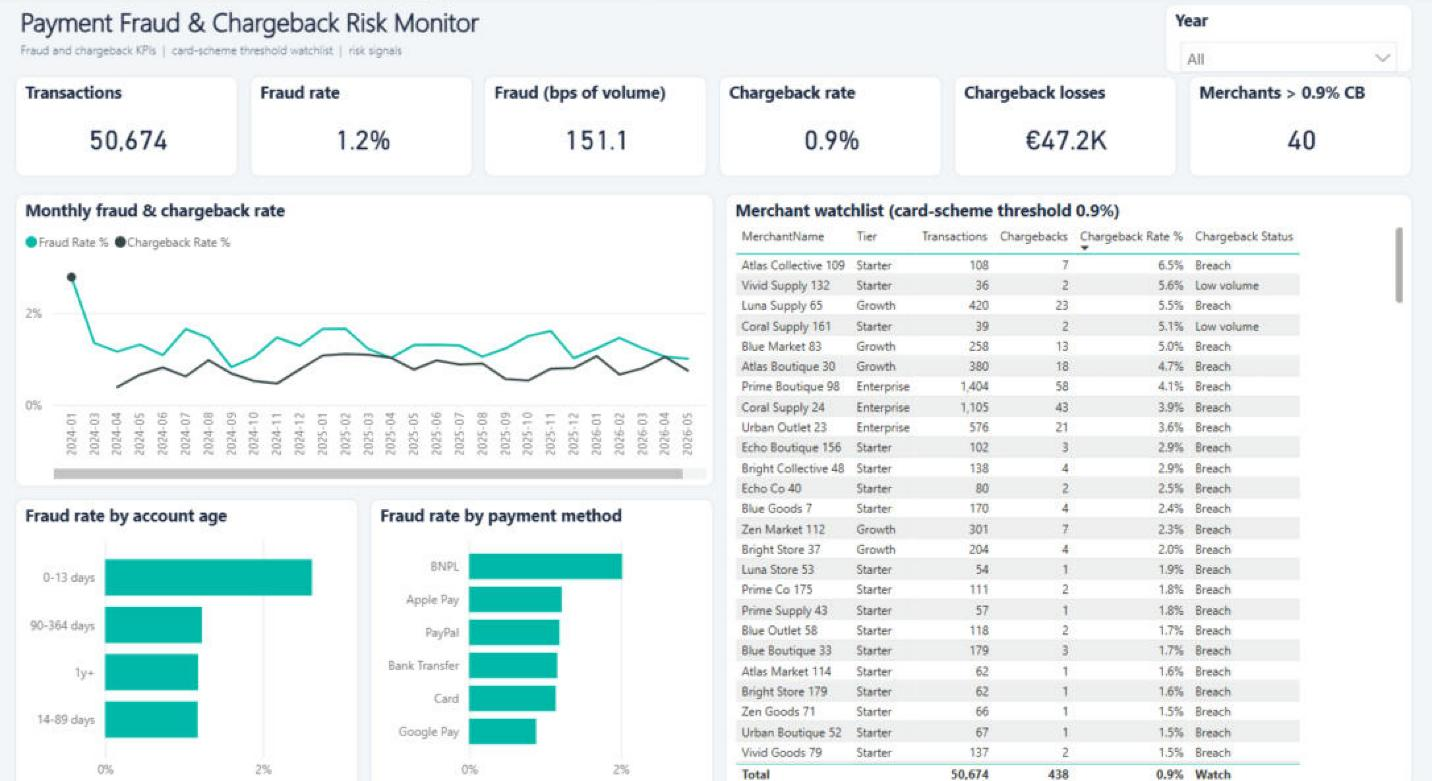

The page's visual inventory and layout, read from the dashboard file:
{"tool":"powerbi","page":{"name":"Risk Overview","canvas":[1280,720],"ordinal":0},"visuals":[{"type":"textbox","box":[20,2,1000,70],"z":0},{"type":"slicer","title":"Year","fields":{"Values":["dim_date.Year"]},"box":[1040,6,220,62],"z":1000},{"type":"card","title":"Transactions","fields":{"Values":["_Measures.Transactions"]},"box":[20,70,198.3,90],"z":2000},{"type":"card","title":"Fraud rate","fields":{"Values":["_Measures.Fraud Rate %"]},"box":[228.3,70,198.3,90],"z":3000},{"type":"card","title":"Fraud (bps of volume)","fields":{"Values":["_Measures.Fraud bps"]},"box":[436.7,70,198.3,90],"z":4000},{"type":"card","title":"Chargeback rate","fields":{"Values":["_Measures.Chargeback Rate %"]},"box":[645,70,198.3,90],"z":5000},{"type":"card","title":"Chargeback losses","fields":{"Values":["_Measures.Chargeback Loss EUR"]},"box":[853.3,70,198.3,90],"z":6000},{"type":"card","title":"Merchants > 0.9% CB","fields":{"Values":["_Measures.Merchants Above Threshold"]},"box":[1061.7,70,198.3,90],"z":7000},{"type":"lineChart","title":"Monthly fraud & chargeback rate","fields":{"Category":["dim_date.YearMonth"],"Y":["_Measures.Fraud Rate %","_Measures.Chargeback Rate %"]},"box":[20,175,620,260],"z":8000},{"type":"tableEx","title":"Merchant watchlist (card-scheme threshold 0.9%)","fields":{"Values":["dim_merchant.MerchantName","dim_merchant.Tier","_Measures.Transactions","_Measures.Chargebacks","_Measures.Chargeback Rate %","_Measures.Chargeback Status"]},"box":[650,175,610,530],"z":9000},{"type":"clusteredBarChart","title":"Fraud rate by account age","fields":{"Category":["fact_transactions.AccountAgeBand"],"Y":["_Measures.Fraud Rate %"]},"box":[20,445,305,260],"z":10000},{"type":"clusteredBarChart","title":"Fraud rate by payment method","fields":{"Category":["fact_transactions.PaymentMethod"],"Y":["_Measures.Fraud Rate %"]},"box":[335,445,305,260],"z":11000}]}

Visuals, with their boxes on the page's 1280x720 design canvas (x1, y1, x2, y2). These are canvas units, not pixel positions in the 1432x781 screenshot, which may show the page scaled, cropped or inside an application window:
textbox: region(20, 2, 1020, 72)
"Year" slicer: region(1040, 6, 1260, 68)
"Transactions" card: region(20, 70, 218, 160)
"Fraud rate" card: region(228, 70, 427, 160)
"Fraud (bps of volume)" card: region(437, 70, 635, 160)
"Chargeback rate" card: region(645, 70, 843, 160)
"Chargeback losses" card: region(853, 70, 1052, 160)
"Merchants > 0.9% CB" card: region(1062, 70, 1260, 160)
"Monthly fraud & chargeback rate" lineChart: region(20, 175, 640, 435)
"Merchant watchlist (card-scheme threshold 0.9%)" tableEx: region(650, 175, 1260, 705)
"Fraud rate by account age" clusteredBarChart: region(20, 445, 325, 705)
"Fraud rate by payment method" clusteredBarChart: region(335, 445, 640, 705)
